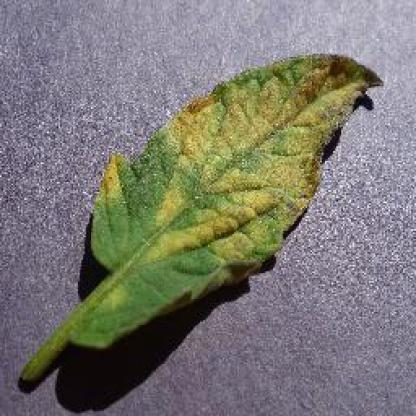bad leaf: (100, 53, 375, 265)
